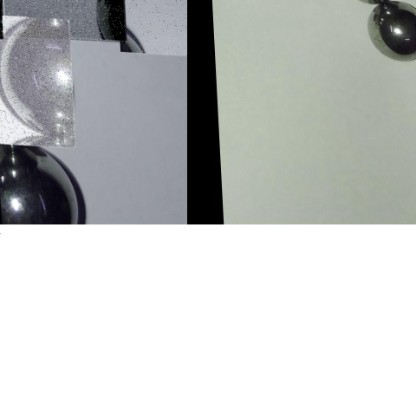ironball: (0, 13, 73, 146), (0, 146, 91, 219), (2, 0, 123, 40), (117, 0, 187, 56), (363, 1, 414, 65)
